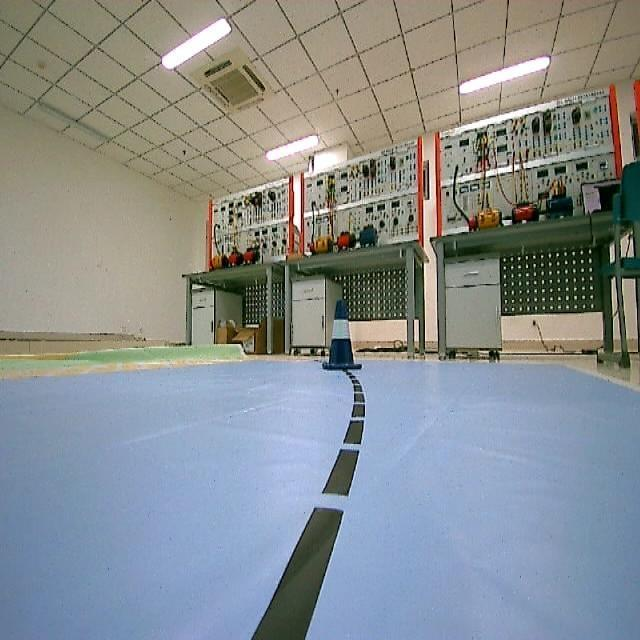obstacle: (320, 295, 362, 373)
